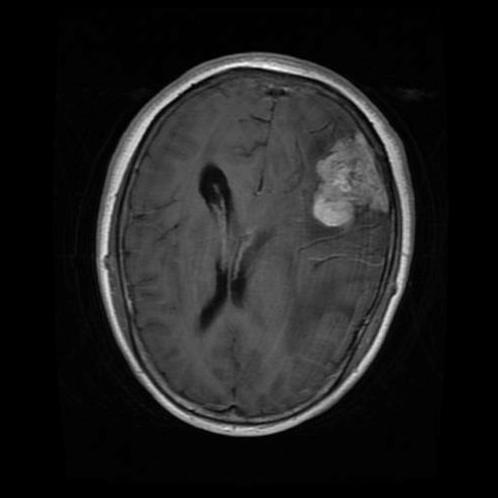Tumour-Meningioma: (262, 97, 394, 242)
